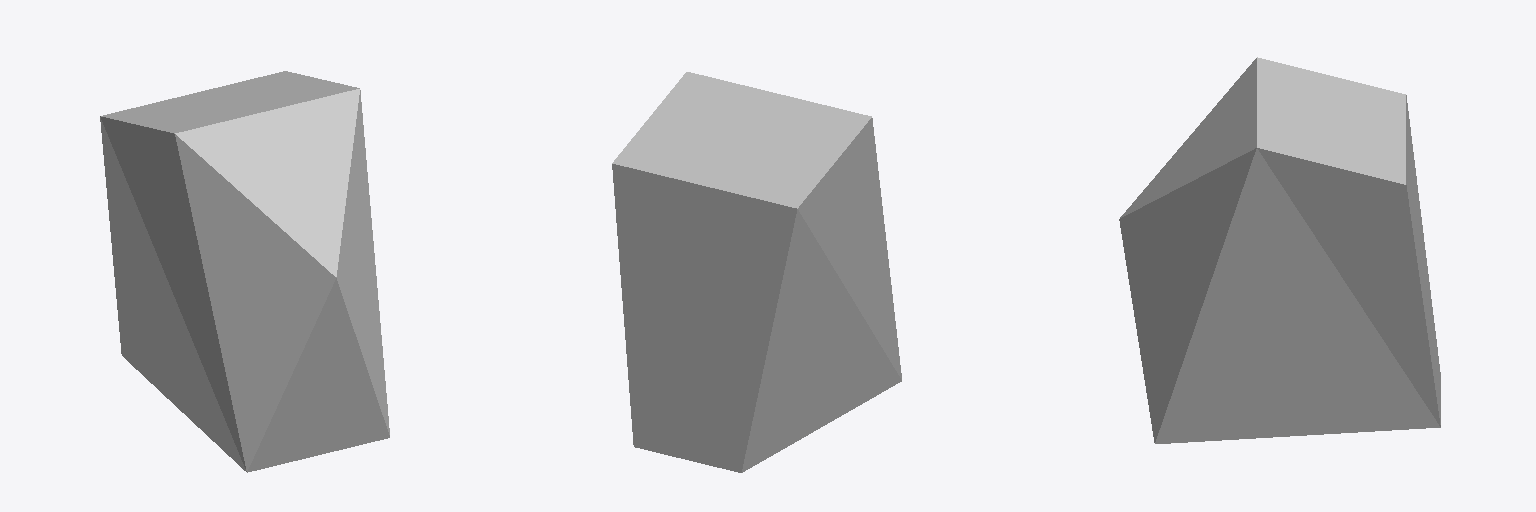
Rendered from sm_plush_ccx.obj.
3 renders of one model, left to right at view 1: azimuth 30°, elevation 25°; view 2: azimuth 150°, elevation 25°; view 3: azimuth 270°, elevation 25°, orthographic.
Parts seen in each view (by area): view 1: plush_ccx; view 2: plush_ccx; view 3: plush_ccx.
Part boxes in pixels (x1,y1,x2,y2): plush_ccx: (100,71,389,472); plush_ccx: (612,72,901,472); plush_ccx: (1119,57,1440,443).
Size of the model in its own units: 0.8754 by 1.38 by 1.31.